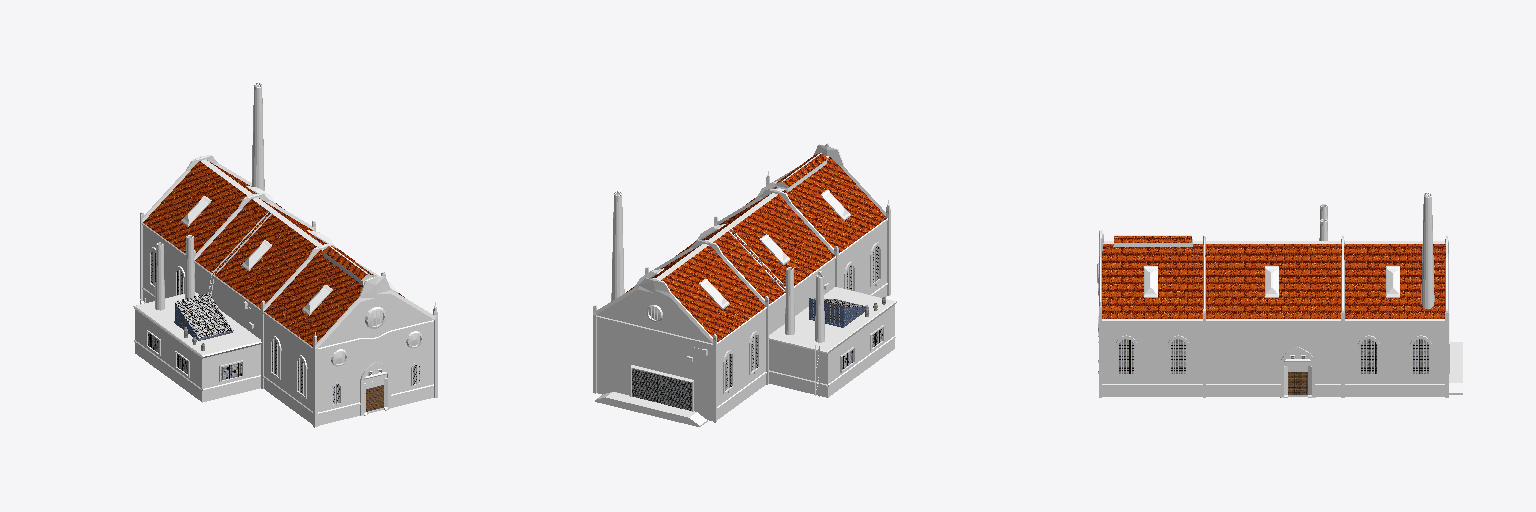
3 renders of one model, left to right at view 1: azimuth 30°, elevation 25°; view 2: azimuth 150°, elevation 25°; view 3: azimuth 270°, elevation 25°, orthographic.
Visible parts, largest first — view 1: factory_Object; view 2: factory_Object; view 3: factory_Object.
Part boxes in pixels (bbox=[...]): factory_Object: bbox=[133, 83, 437, 427]; factory_Object: bbox=[593, 143, 896, 426]; factory_Object: bbox=[1097, 193, 1462, 397].
Bounding box in the file's own units: 7.94 × 8.19 × 13.68.
15 materials, 7 textured.